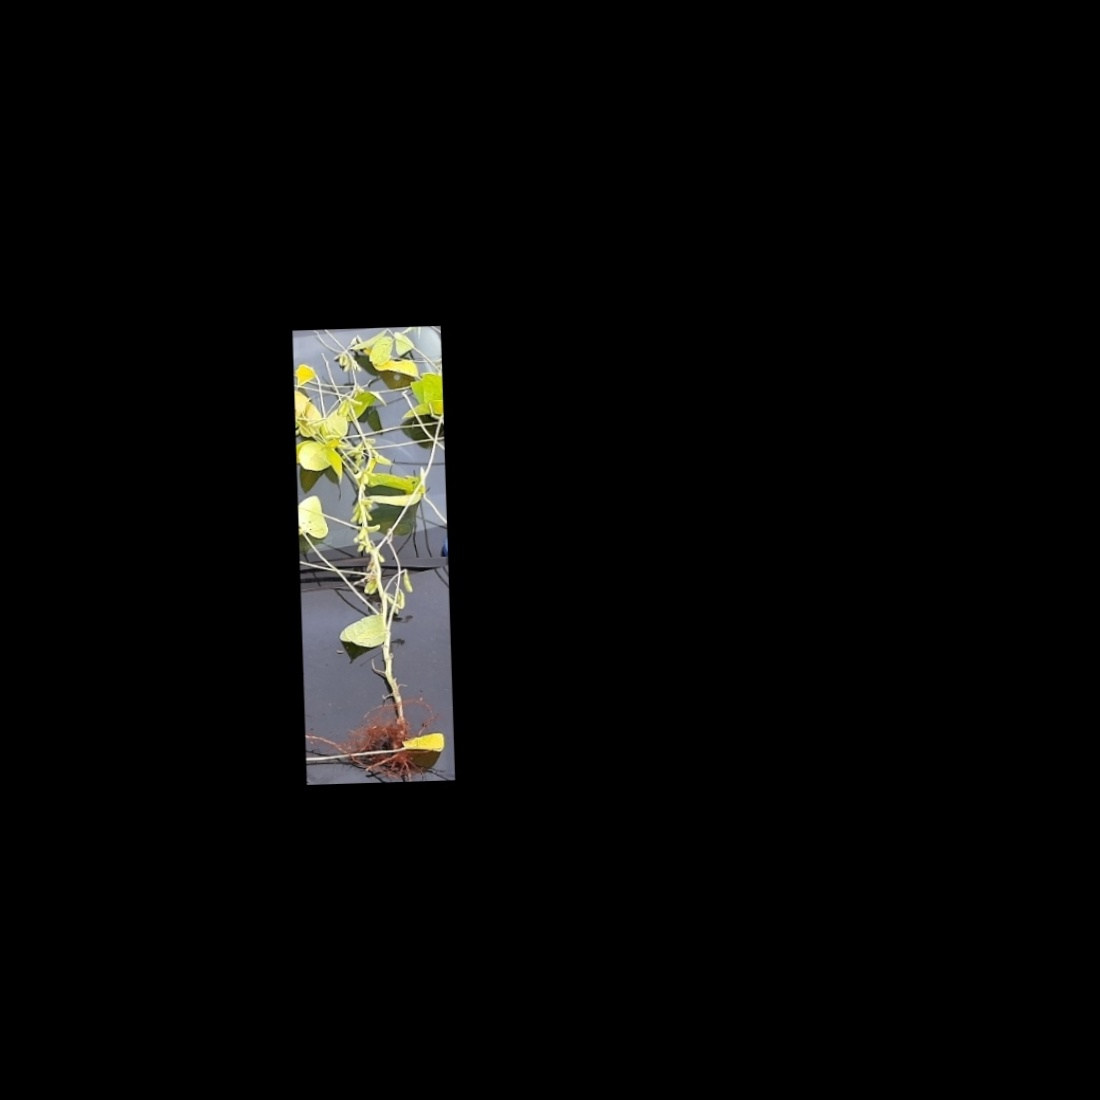pod: (400, 568, 415, 595), (362, 522, 382, 535), (355, 497, 376, 508), (349, 506, 360, 525)
soy: (296, 334, 447, 770)
